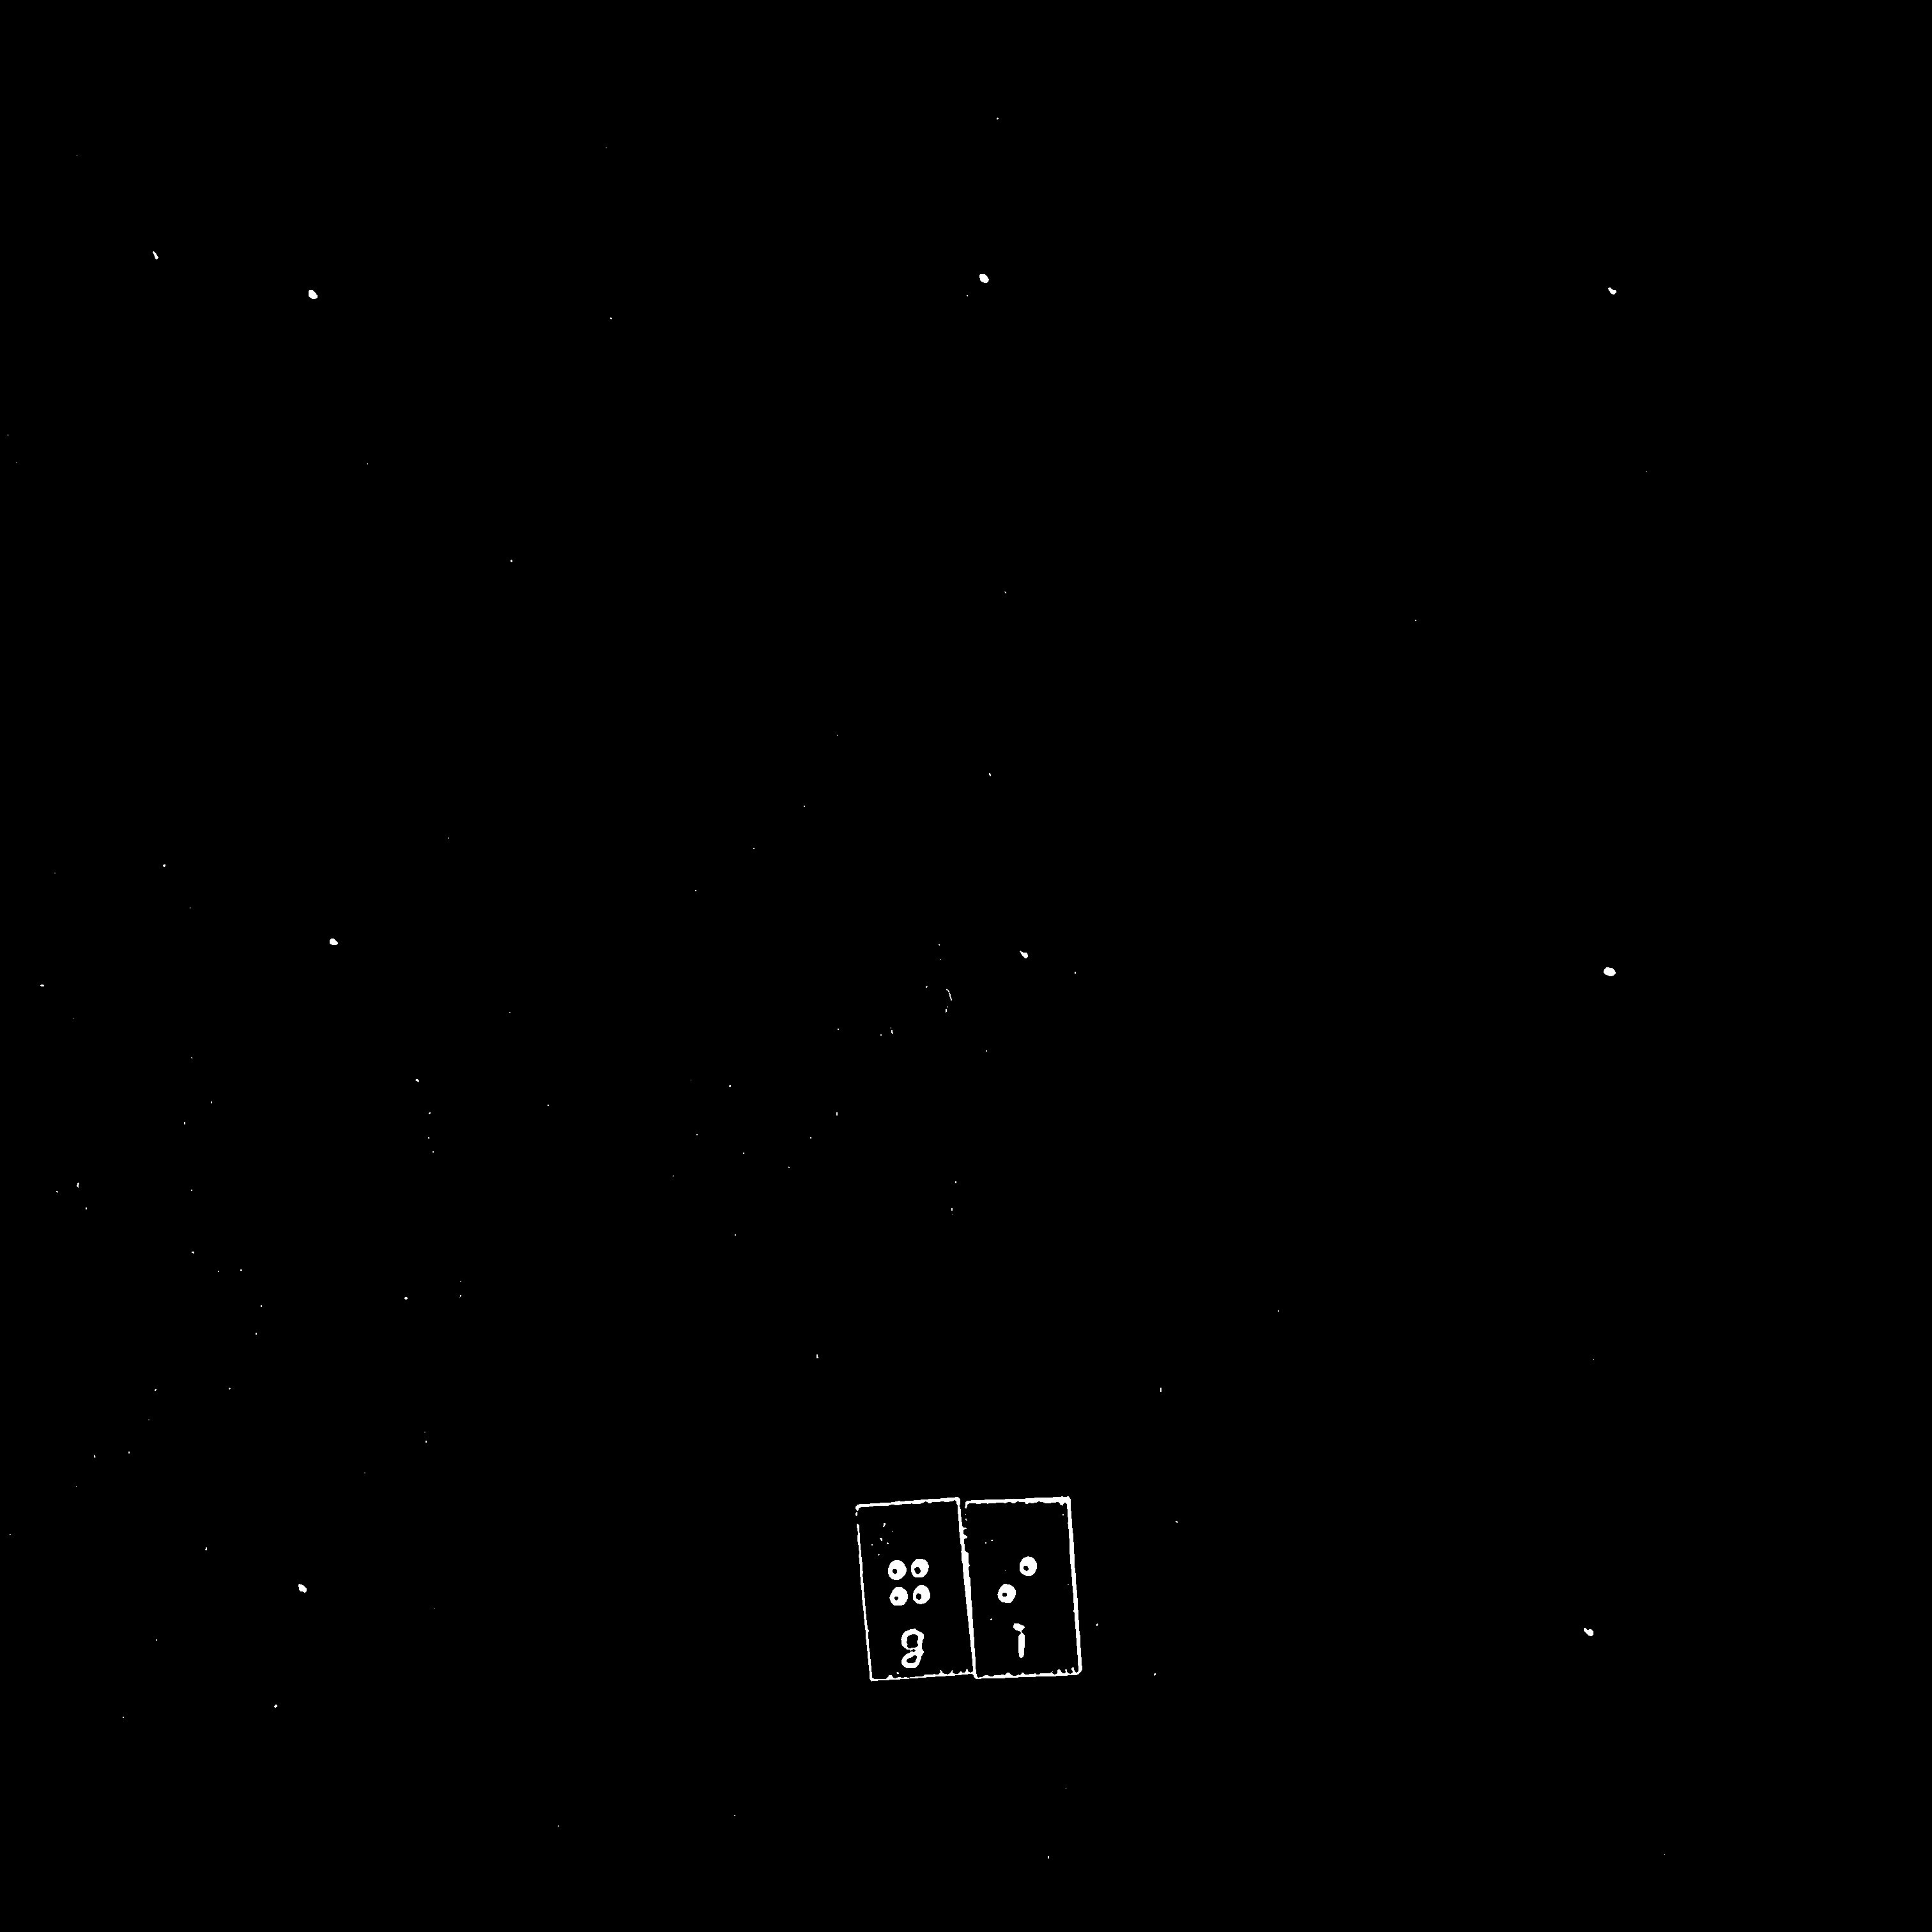g: (884, 1549, 946, 1628)
i: (990, 1544, 1045, 1623)
